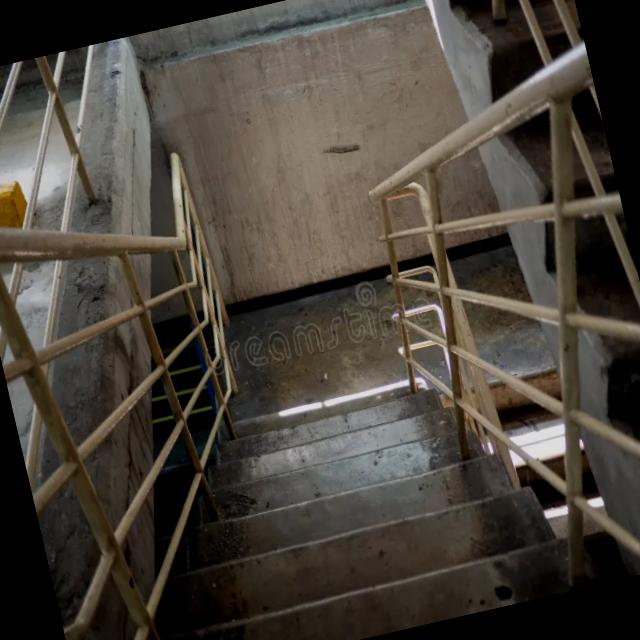Stairs: (0, 21, 640, 640)
